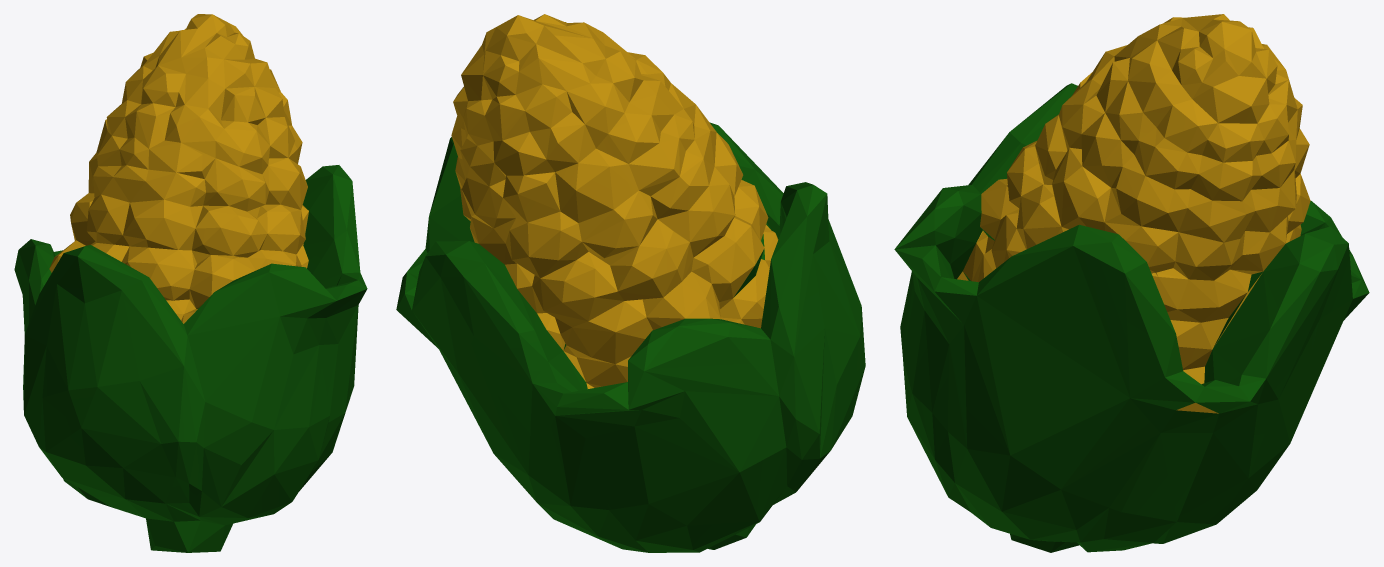
Rendered from Corn_lowpoly.obj.
3 renders of one model, left to right at view 1: azimuth 30°, elevation 25°; view 2: azimuth 150°, elevation 25°; view 3: azimuth 270°, elevation 25°, orthographic. The views are drawn at different scales.
Visible parts, largest first — view 1: Mesh1.001; view 2: Mesh1.001; view 3: Mesh1.001.
Part boxes in pixels (x1,y1,x2,y2): Mesh1.001: [14, 14, 367, 552]; Mesh1.001: [396, 14, 865, 552]; Mesh1.001: [894, 14, 1369, 552].
Bounding box in the file's own units: 0.7022 × 0.9488 × 0.7091.
